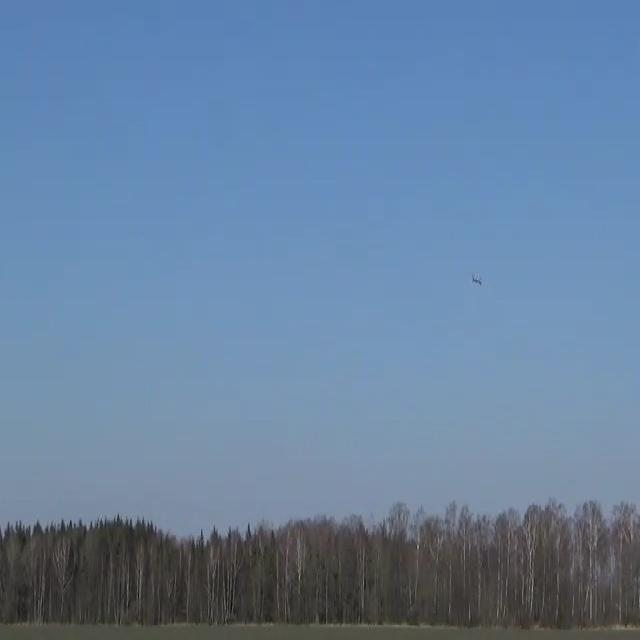drone: (471, 273, 482, 285)
